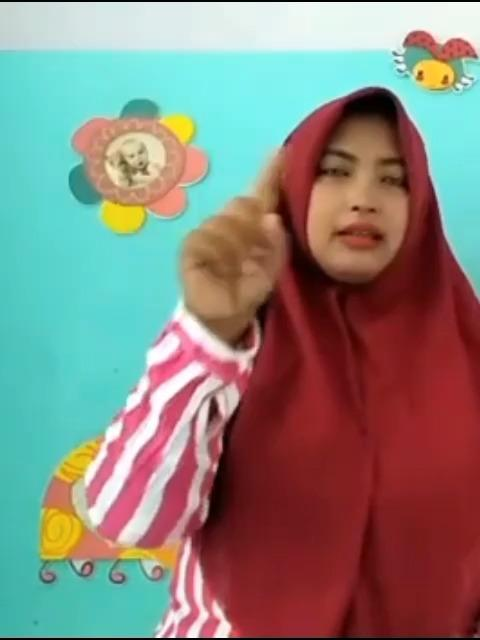Z: (174, 142, 294, 322)
